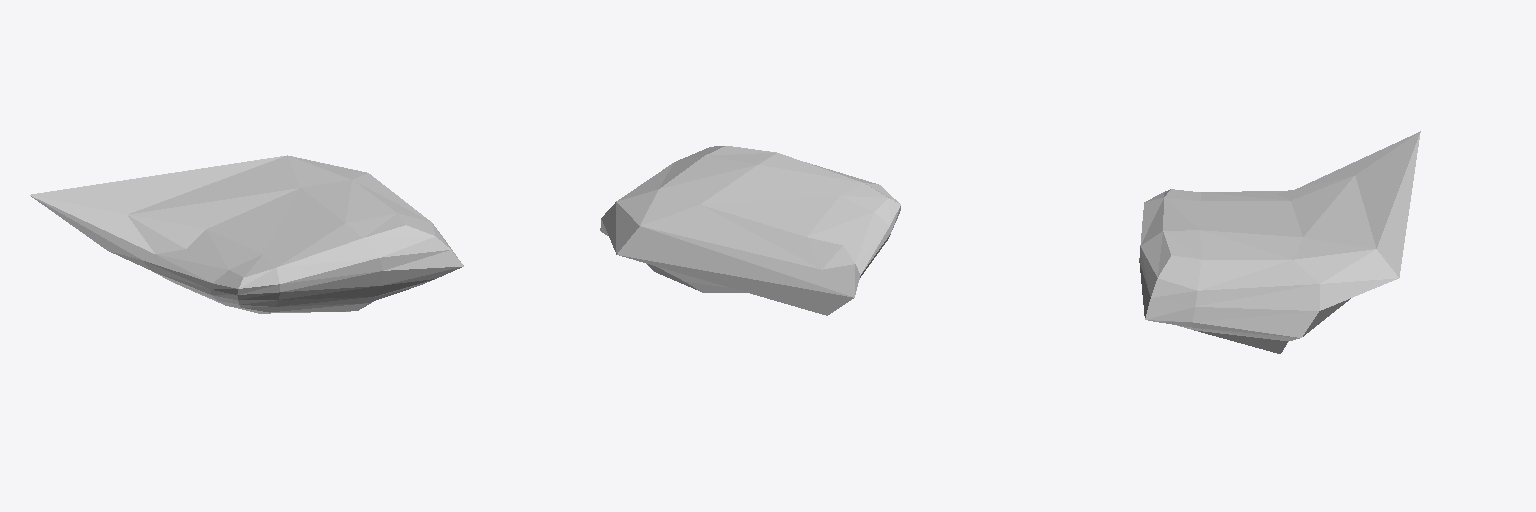
The model's file is env_level1_Canyon_Rock35.obj.
The picture shows the model from 3 angles: view 1: azimuth 30°, elevation 25°; view 2: azimuth 150°, elevation 25°; view 3: azimuth 270°, elevation 25°; orthographic projection.
Parts seen in each view (by area): view 1: rockplatform_a; view 2: rockplatform_a; view 3: rockplatform_a.
Boxes of the visible parts, <box> form: rockplatform_a: <box>30,155,463,313</box>; rockplatform_a: <box>600,146,900,315</box>; rockplatform_a: <box>1139,131,1420,353</box>.
Bounding box in the file's own units: 829 × 252 × 643.